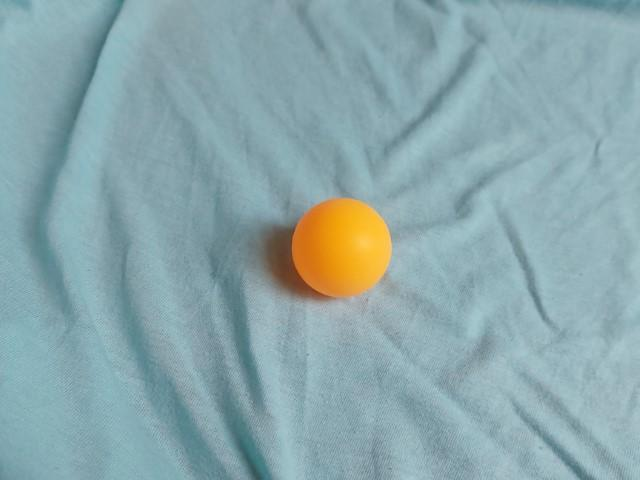oball: (282, 189, 402, 308)
